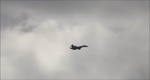maybay_muctieu: (68, 42, 90, 53)
